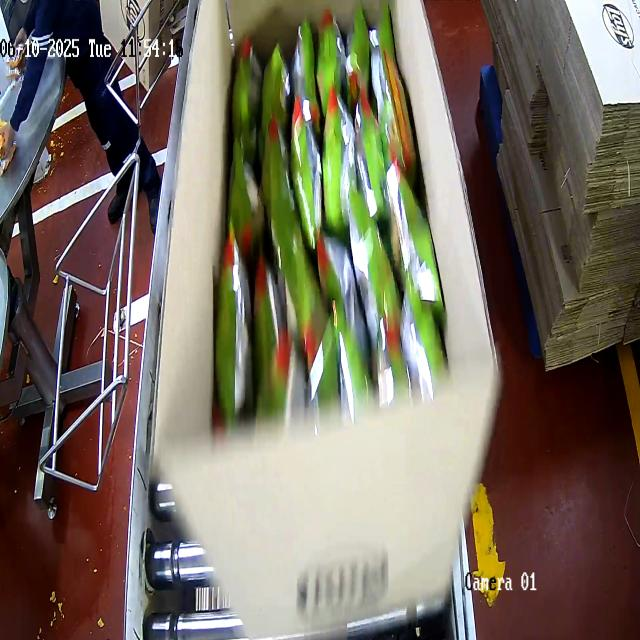YOGURT_HERB: (227, 16, 426, 385)
